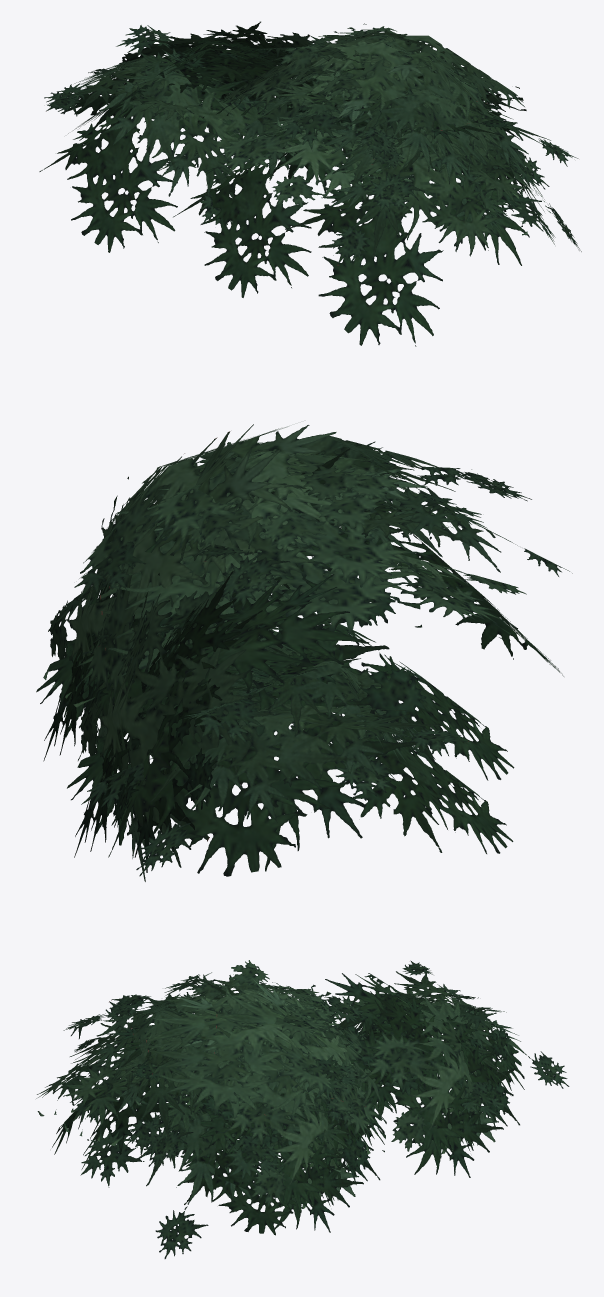
The model's file is Area_05_20.fbx.
The picture shows the model from 3 angles, top to bottom: view 1: azimuth 30°, elevation 25°; view 2: azimuth 150°, elevation 25°; view 3: azimuth 270°, elevation 25°; orthographic projection. The views are drawn at different scales.
Parts seen in each view (by area): view 1: Area_05_20; view 2: Area_05_20; view 3: Area_05_20.
Boxes of the visible parts, bbox=[...] form: Area_05_20: bbox=[39, 21, 581, 346]; Area_05_20: bbox=[36, 424, 572, 881]; Area_05_20: bbox=[36, 960, 569, 1258].
Bounding box in the file's own units: 455 × 266 × 584.
